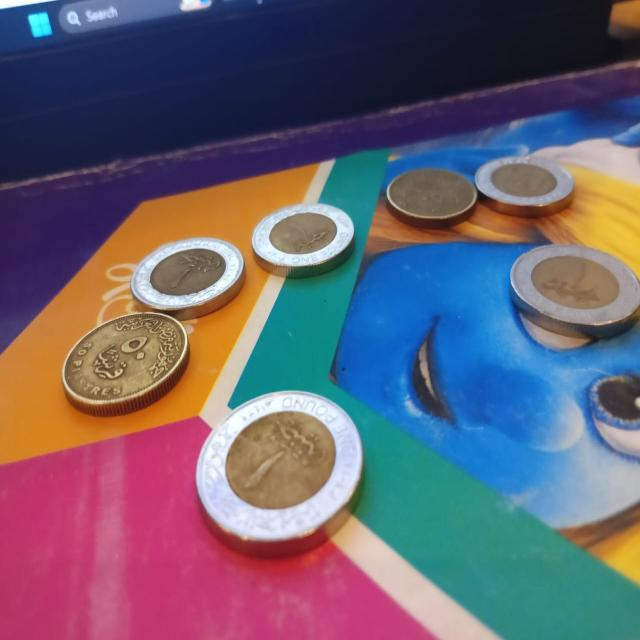Half Pound: (54, 298, 194, 422), (378, 154, 479, 240)
One Pound: (194, 383, 382, 563), (506, 229, 640, 348), (130, 229, 252, 321), (246, 194, 358, 284), (476, 143, 579, 220)
